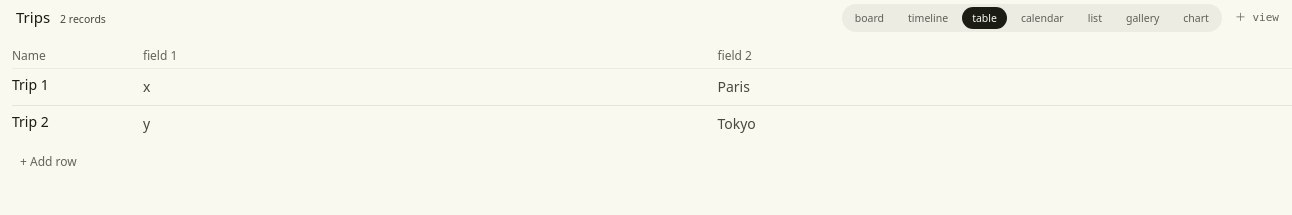
Scenario: CollectionTable — delete a field from its header menu (KAN-380) › undo restores under a free name, never dropped, when the name was reclaimed in the meantime
Note: delete field 2, staging an undo that would restore "field 2".
Click the button "field 2".
click(735, 56)  # box x1=717 y1=48 x2=1280 y2=64
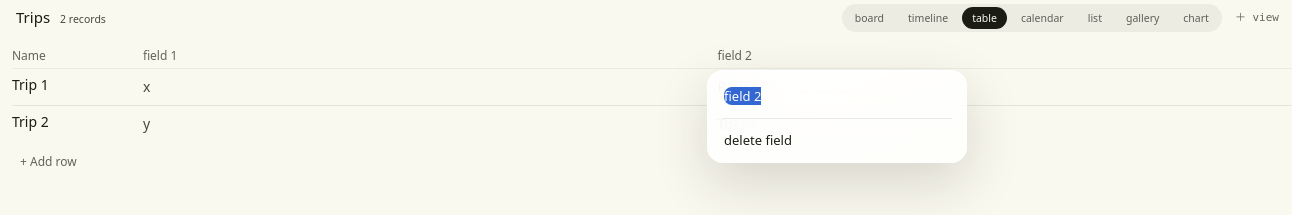
Click the menu item "delete field".
click(758, 140)  # box x1=724 y1=131 x2=792 y2=149
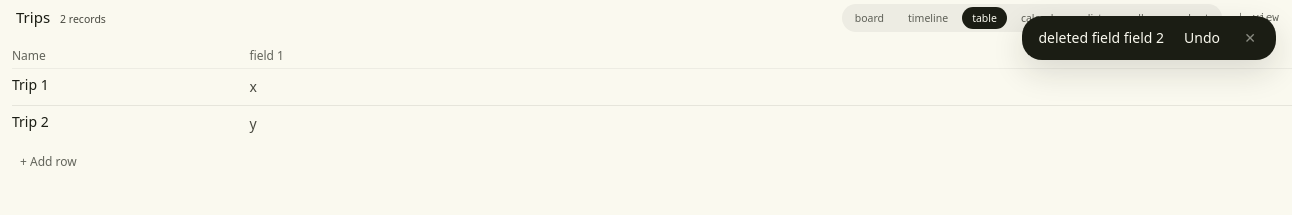
Click the button "field 1".
click(267, 56)  # box x1=250 y1=48 x2=1280 y2=64
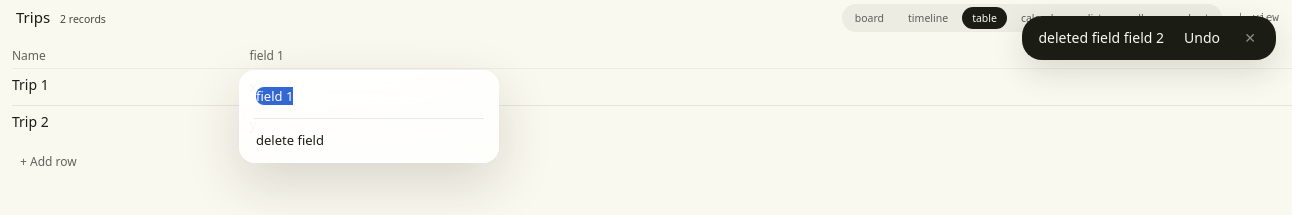
Clear the field named "field name" at (369, 96), box x1=256 y1=87 x2=482 y2=105
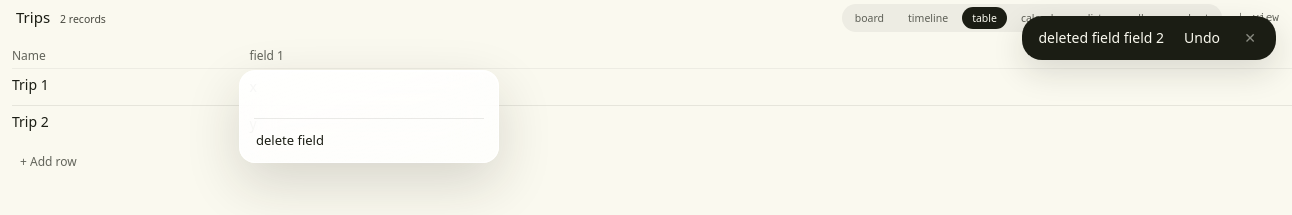
Type keys "field 2{Enter}"
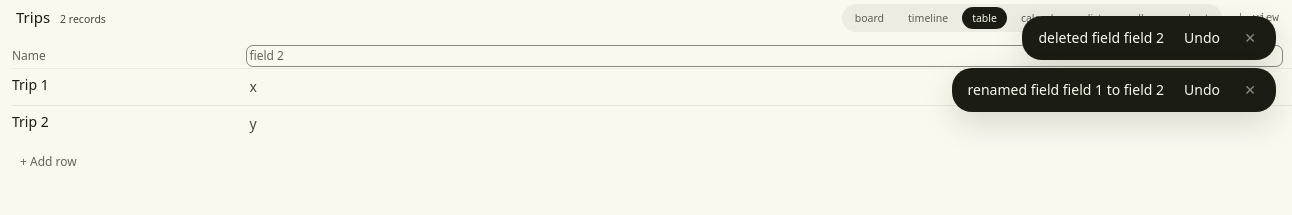
Expected: the number of buttons "field 2" is 1, x1=250 y1=48 x2=1280 y2=64
Click the button "Undo" next to "deleted field field 2".
click(1202, 38)  # box x1=1176 y1=26 x2=1228 y2=50
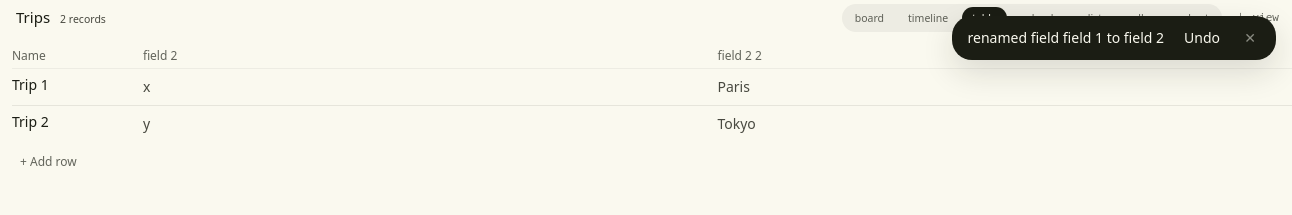
Expected: the number of buttons "field 2" is 1, x1=143 y1=48 x2=705 y2=64
Expected: the button "field 2 2" is shown, x1=717 y1=48 x2=1280 y2=64
